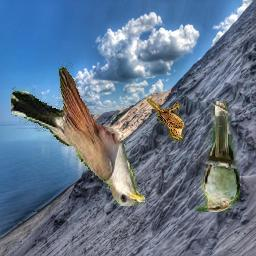Cuckoo: (11, 62, 145, 207), (196, 102, 241, 213)
Sparrow: (146, 99, 185, 142)
